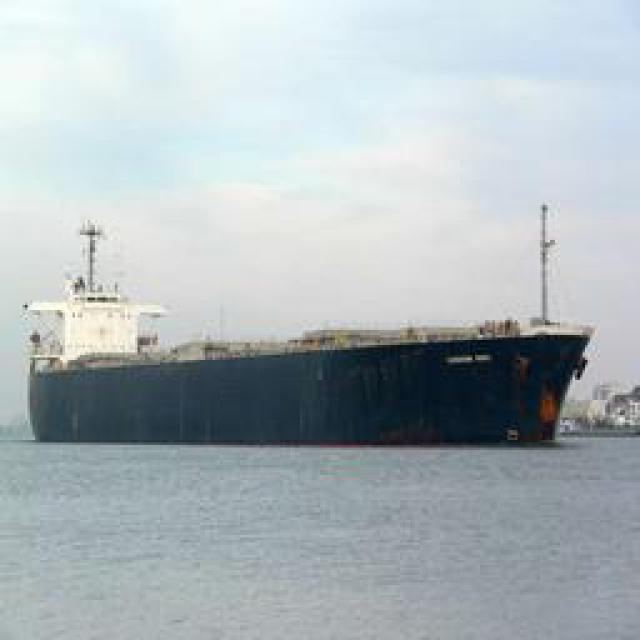Ship: (19, 220, 604, 456)
